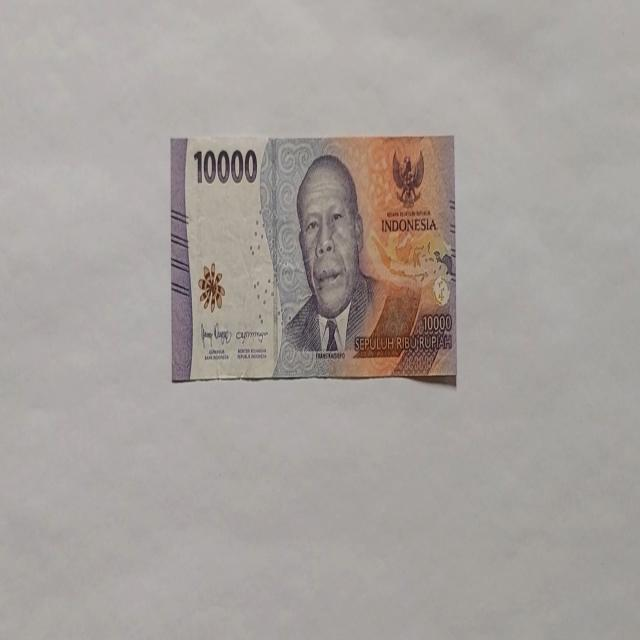sepuluh ribu rupiah: (171, 132, 457, 384)
